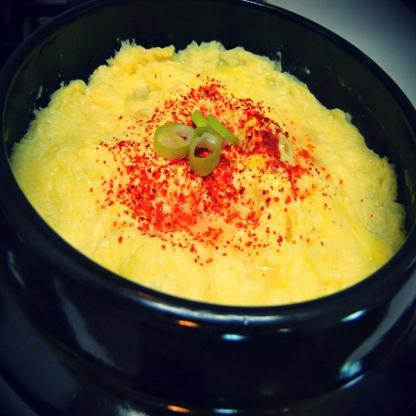Kaithoon: (20, 29, 406, 329)
